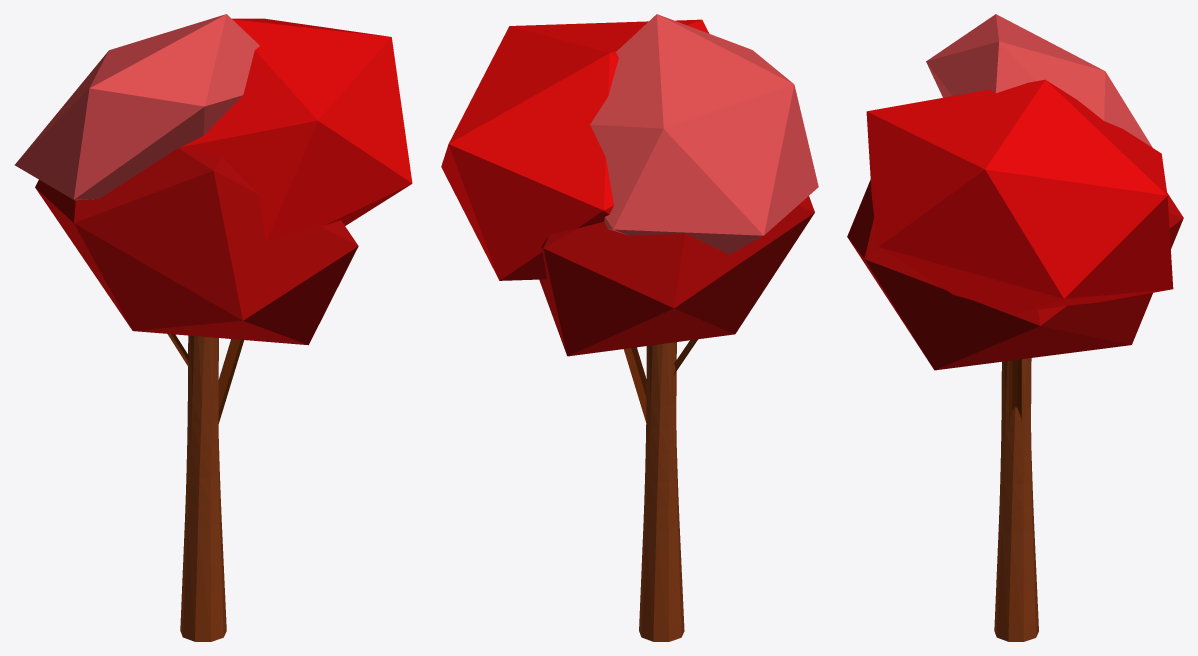
Rendered from cherry tree.dae.
The picture shows the model from 3 angles, left to right: view 1: azimuth 30°, elevation 25°; view 2: azimuth 150°, elevation 25°; view 3: azimuth 270°, elevation 25°; orthographic projection. The views are drawn at different scales.
Visible parts, largest first — view 1: cherry tree.001, cherry tree.004, cherry tree.005, cherry tree, cherry tree.002; view 2: cherry tree.005, cherry tree.004, cherry tree.001, cherry tree, cherry tree.002; view 3: cherry tree.004, cherry tree.001, cherry tree.005, cherry tree, cherry tree.002.
Boxes of the visible parts, <box> form: cherry tree.001: <box>35,147,358,345</box>; cherry tree.004: <box>180,18,412,242</box>; cherry tree.005: <box>14,14,259,200</box>; cherry tree: <box>180,335,226,641</box>; cherry tree.002: <box>218,339,244,423</box>; cherry tree.005: <box>590,14,818,254</box>; cherry tree.004: <box>441,19,709,280</box>; cherry tree.001: <box>539,196,814,356</box>; cherry tree: <box>639,342,684,641</box>; cherry tree.002: <box>623,347,646,422</box>; cherry tree.004: <box>866,79,1173,313</box>; cherry tree.001: <box>847,180,1183,370</box>; cherry tree.005: <box>926,14,1152,147</box>; cherry tree: <box>994,358,1038,641</box>; cherry tree.002: <box>1009,359,1021,424</box>.
Bounding box in the file's own units: 6.14 × 5.36 × 10.51.
Materials: 1 (1 with a texture image).
